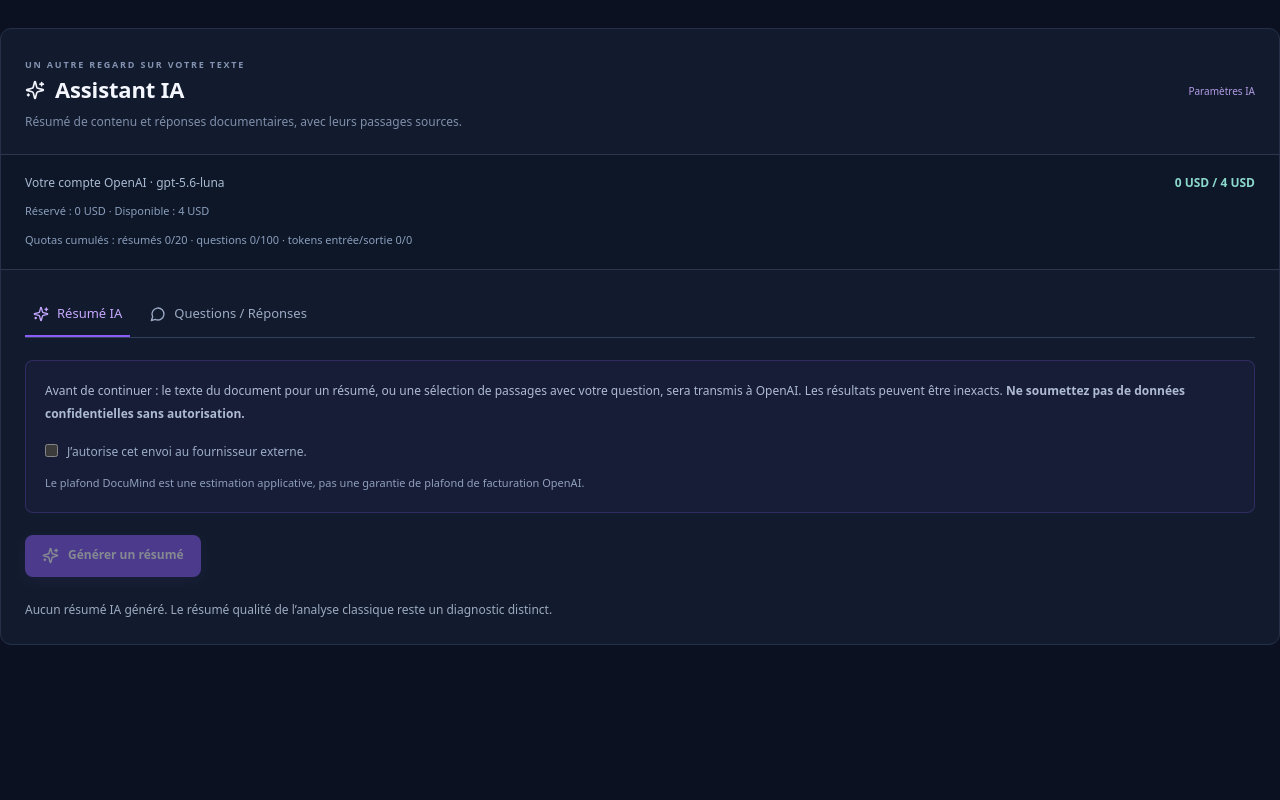
Test: pose une question et affiche l’absence d’informations
The image size is (1280, 800).
Click the checkbox at (52,450), box [45,444,58,457]
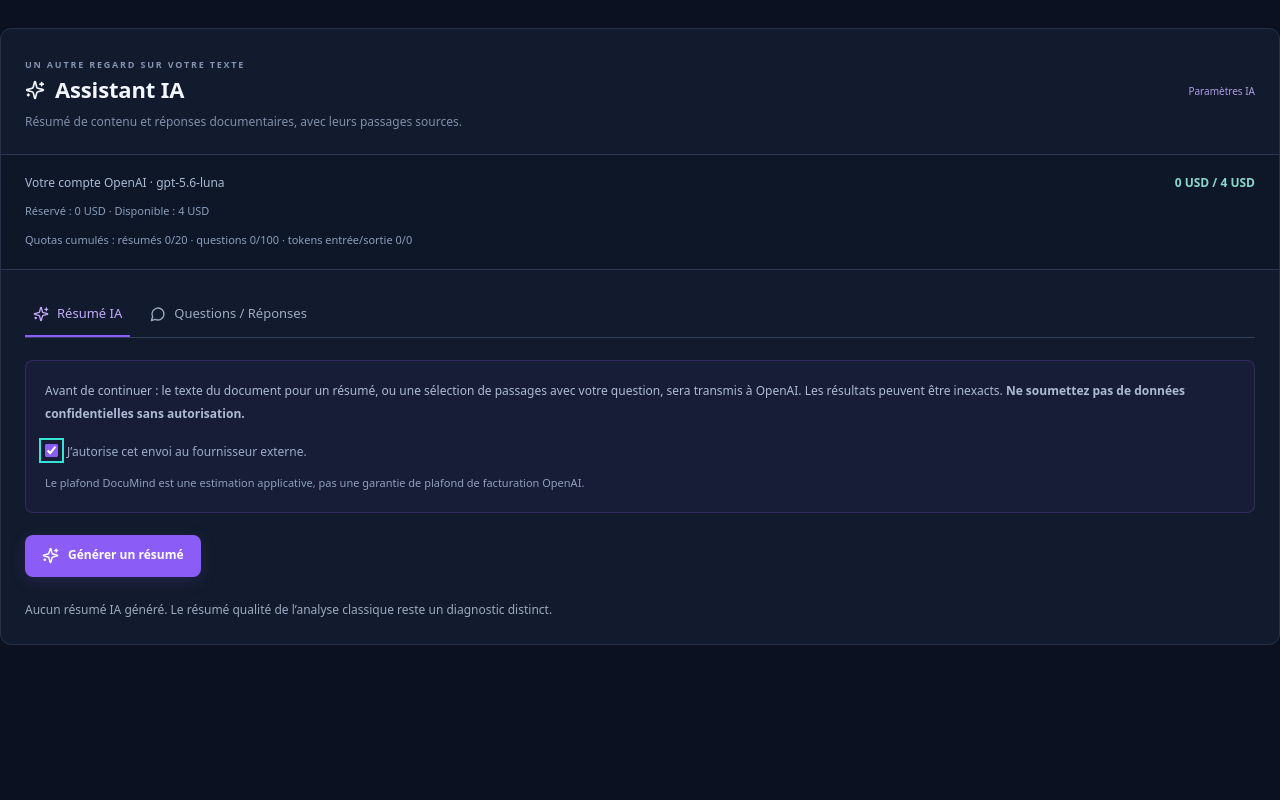
Click the button "Questions / Réponses" at (229,315), box [142,292,315,337]
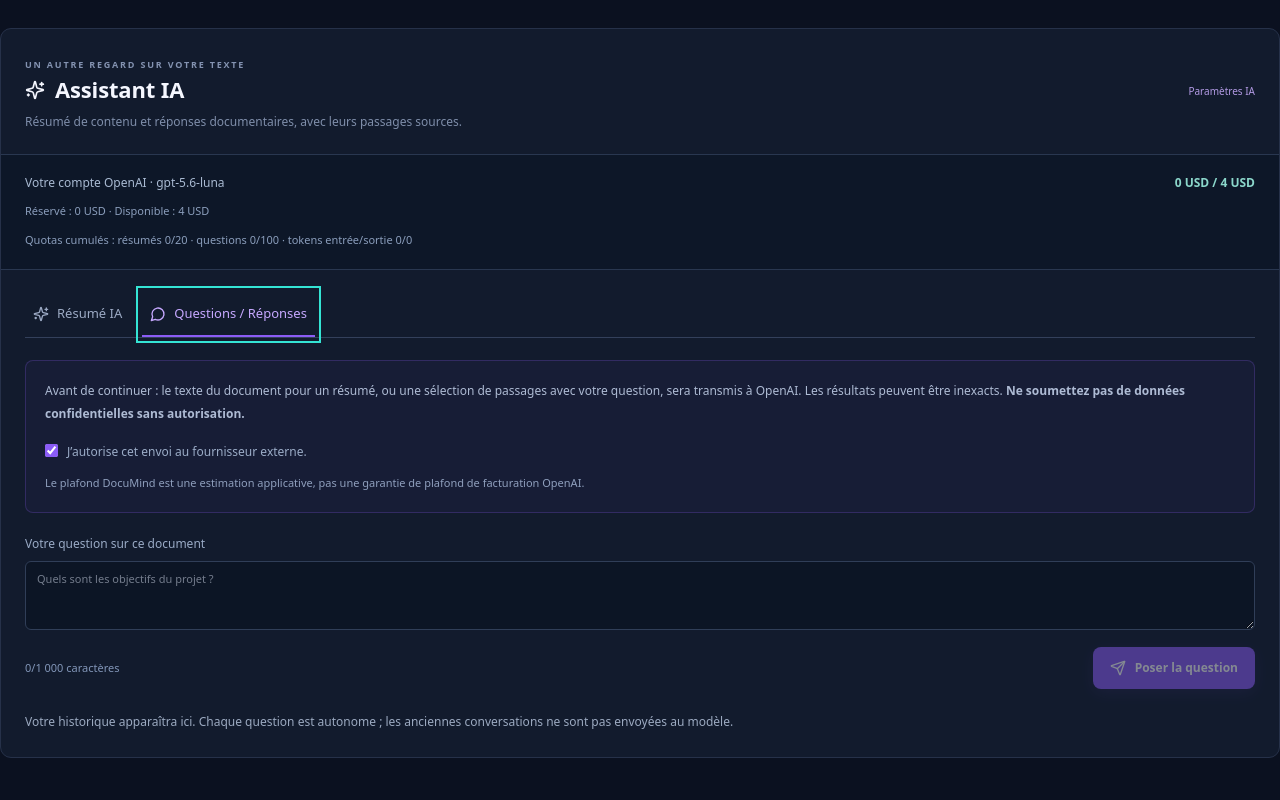
Type "Quelle information manque ?" into the text box labelled "Votre question sur ce document" at (640,596), box [25,561,1255,630]
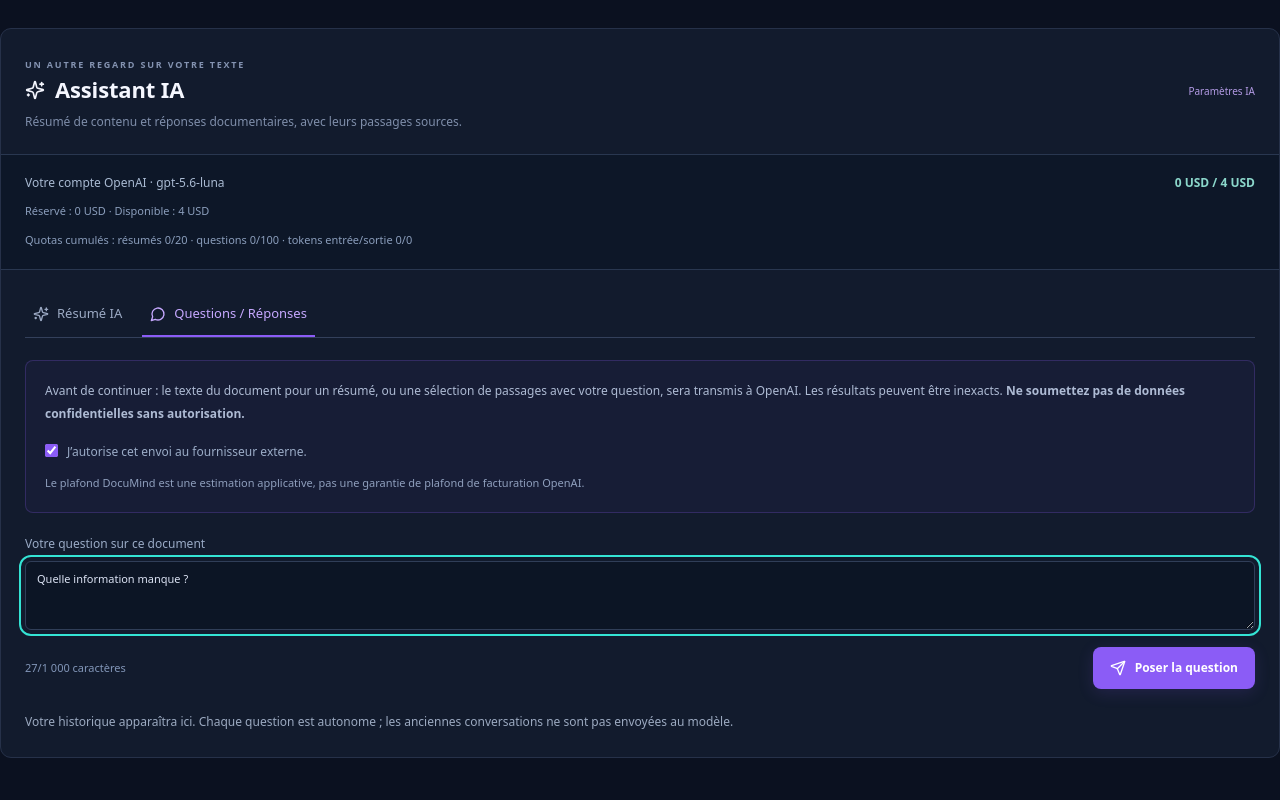
Click the button "Poser la question" at (1174,668), box [1093,647,1255,689]
(page scrolled)
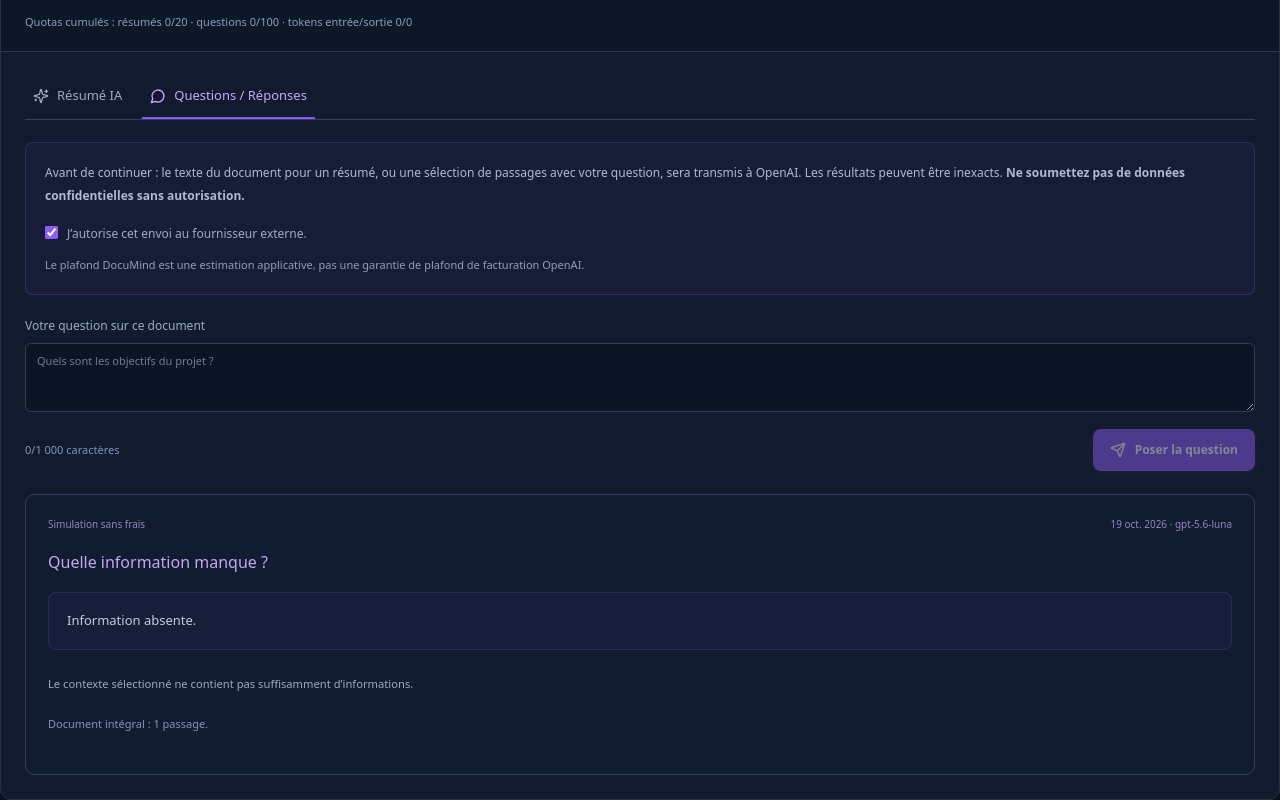
Result: the text "Information absente." is shown at [48,592,1232,650]
